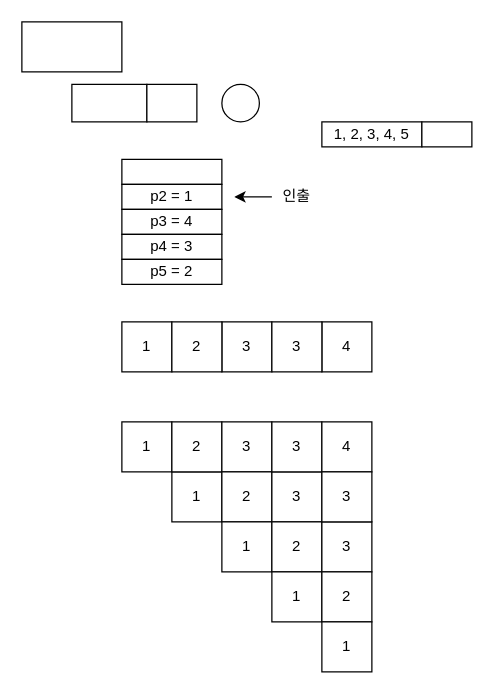
This 494x694 diagram has some shape labels left out. The centre of each missing label's shape, as x and y in pixels:
"1대" belongs at point 171,102.
"ATM" belongs at point 109,102.
"p1 = 3" belongs at point 171,171.
"사람" belongs at point 240,102.
"순서" belongs at point 446,134.
"인하 은행" belongs at point 71,46.
